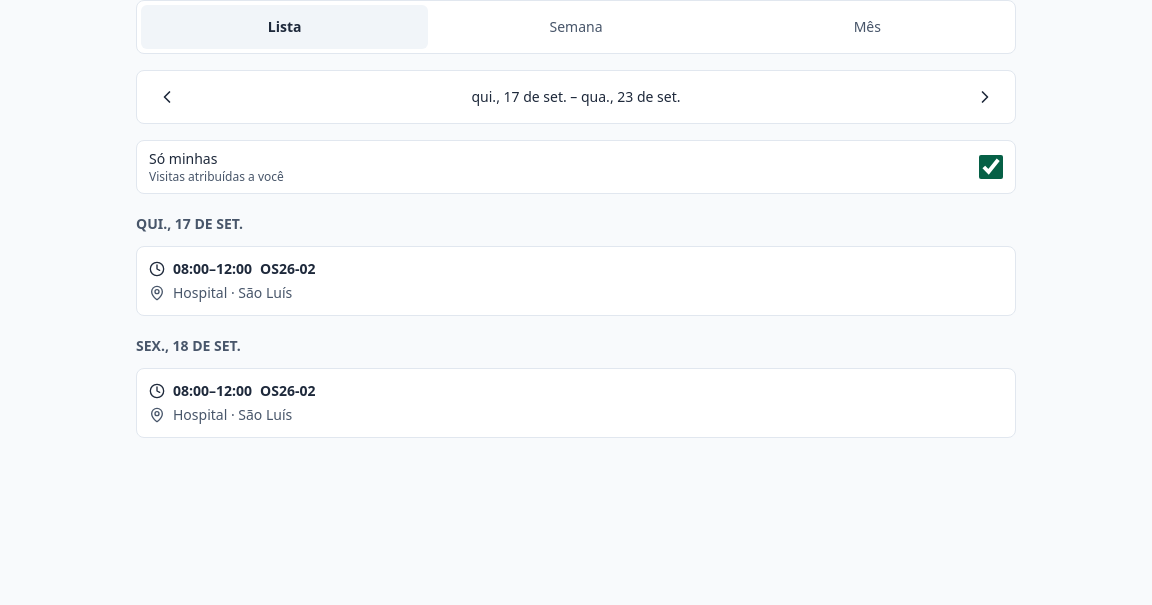
it: Modo Mês › legenda mostra só técnico com visita na janela (Bruno, sem visita, fica de fora), mais "Sem técnico" quando há visita sem tecnico_id
What coordinates should you click on to do the following:
click the button "Mês"
I would click on:
 (867, 27)
Its box is [724,5,1011,49].
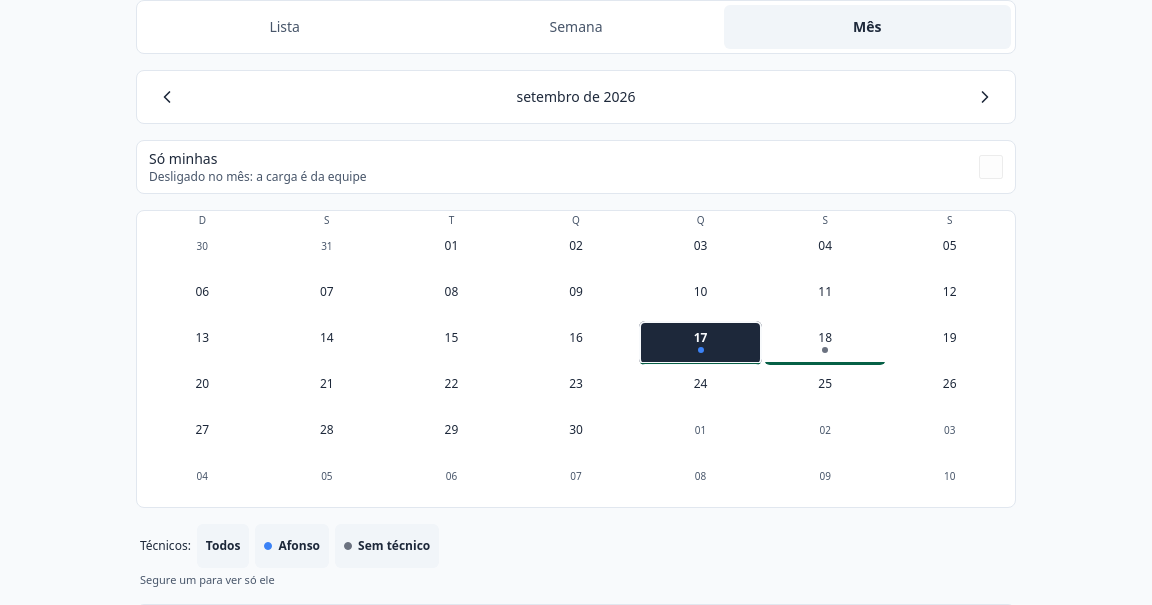
Check: the text "setembro de 2026" is shown, box [516,87,636,107]
Check: the button "Afonso" is shown, box [255,524,329,568]
Check: the button "Sem técnico" is shown, box [335,524,439,568]
